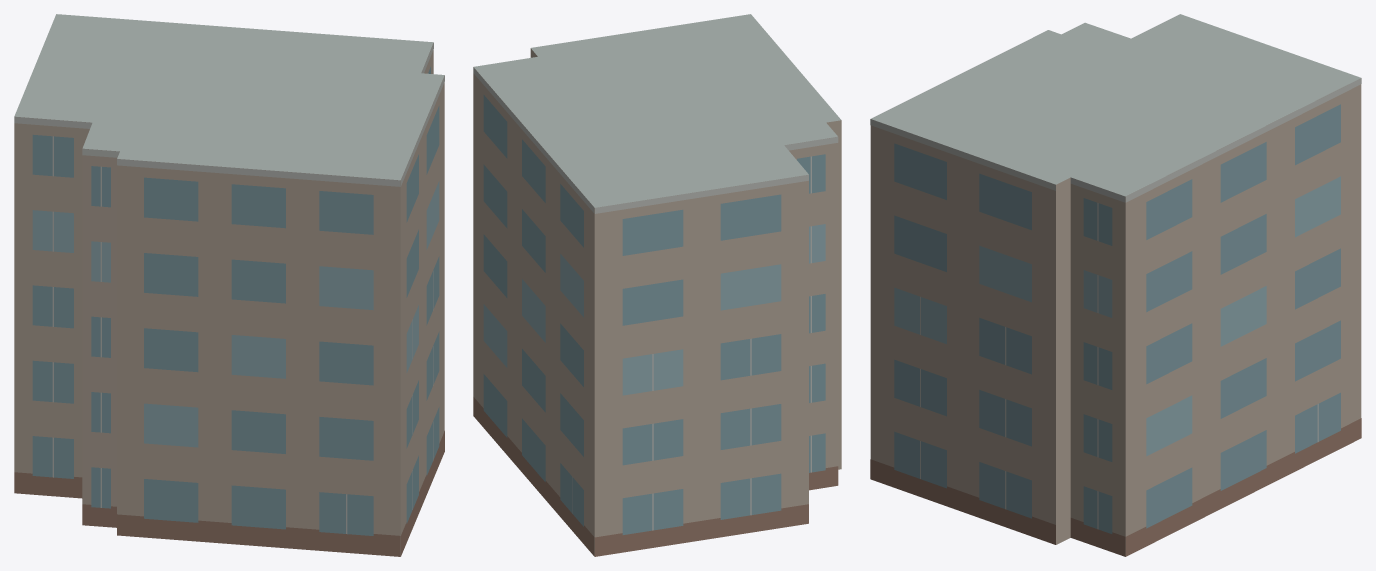
File: survey-upis-32905055.glb
3 renders of one model, left to right at view 1: azimuth 30°, elevation 25°; view 2: azimuth 150°, elevation 25°; view 3: azimuth 270°, elevation 25°, orthographic. The views are drawn at different scales.
Parts seen in each view (by area): view 1: survey-upis-32905055.tmp; view 2: survey-upis-32905055.tmp; view 3: survey-upis-32905055.tmp.
Part boxes in pixels (<box>): survey-upis-32905055.tmp: <box>14,14,444,556</box>; survey-upis-32905055.tmp: <box>473,14,841,556</box>; survey-upis-32905055.tmp: <box>870,14,1361,556</box>.
Bounding box in the file's own units: 15.22 × 14 × 17.3.
